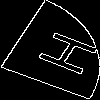H: (25, 25, 100, 78)
